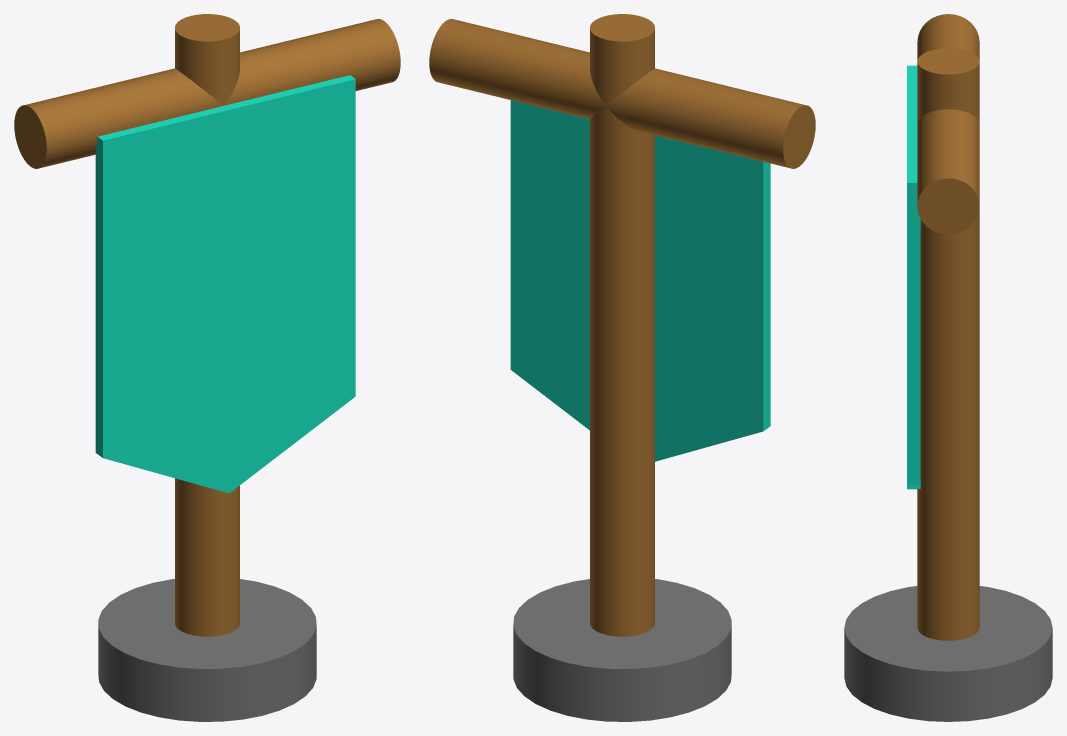
File: Estandard.fbx
3 renders of one model, left to right at view 1: azimuth 30°, elevation 25°; view 2: azimuth 150°, elevation 25°; view 3: azimuth 270°, elevation 25°, orthographic. The views are drawn at different scales.
Visible parts, largest first — view 1: Cylinder.001; view 2: Cylinder.001; view 3: Cylinder.001.
Boxes of the visible parts, x1=… form: Cylinder.001: x1=14, y1=14, x2=400, y2=721; Cylinder.001: x1=429, y1=14, x2=815, y2=721; Cylinder.001: x1=844, y1=14, x2=1052, y2=721.
Bounding box in the file's own units: 5.6 × 9.8 × 3.
